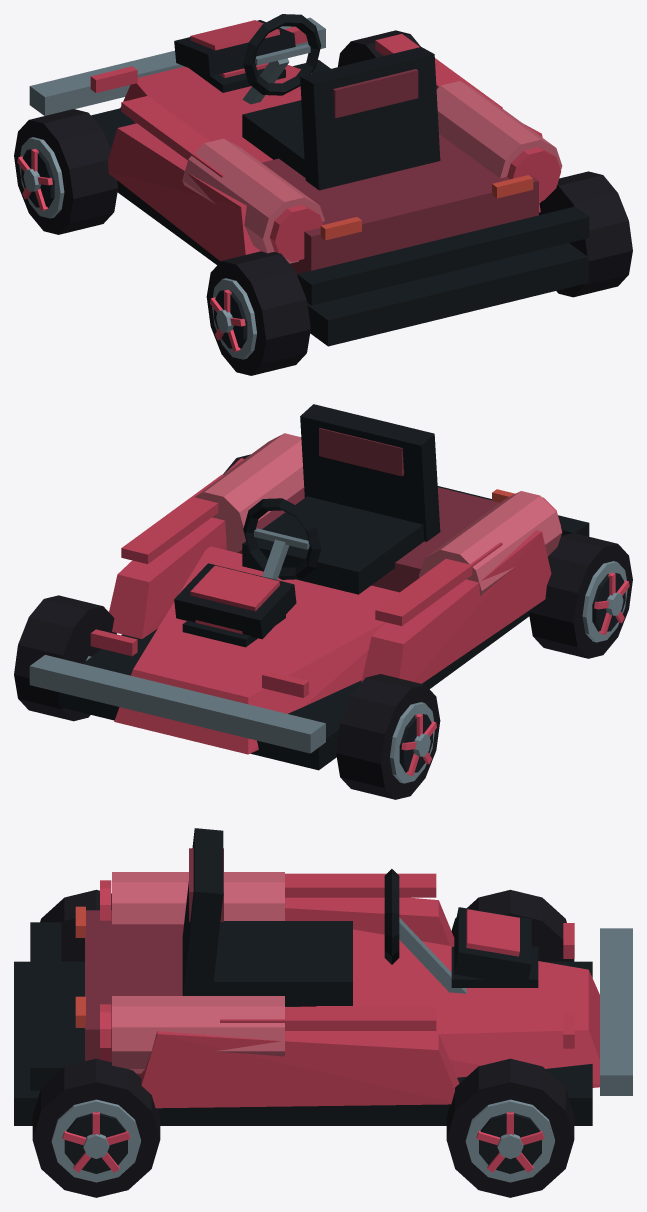
File: kart.glb
3 renders of one model, top to bottom at view 1: azimuth 30°, elevation 25°; view 2: azimuth 150°, elevation 25°; view 3: azimuth 270°, elevation 25°, orthographic. The views are drawn at different scales.
Parts seen in each view (by area): view 1: chassis, wheel-rear-left, wheel-front-left, wheel-rear-right, wheel-front-right; view 2: chassis, wheel-front-left, wheel-rear-left, wheel-front-right; view 3: chassis, wheel-front-right, wheel-rear-right, wheel-front-left, wheel-rear-left.
Part boxes in pixels (x1=…): chassis: x1=29, y1=14, x2=589, y2=346; wheel-rear-left: x1=206, y1=251, x2=310, y2=375; wheel-front-left: x1=14, y1=109, x2=118, y2=234; wheel-rear-right: x1=539, y1=171, x2=632, y2=297; wheel-front-right: x1=338, y1=30, x2=420, y2=66; chassis: x1=29, y1=404, x2=589, y2=770; wheel-front-left: x1=336, y1=674, x2=440, y2=799; wheel-rear-left: x1=528, y1=533, x2=632, y2=658; wheel-front-right: x1=14, y1=595, x2=116, y2=721; chassis: x1=14, y1=828, x2=632, y2=1125; wheel-front-right: x1=446, y1=1058, x2=574, y2=1197; wheel-rear-right: x1=32, y1=1058, x2=160, y2=1197; wheel-front-left: x1=451, y1=889, x2=574, y2=961; wheel-rear-left: x1=40, y1=889, x2=111, y2=961.
Size of the model in its own units: 2.38 by 1.3 by 3.
